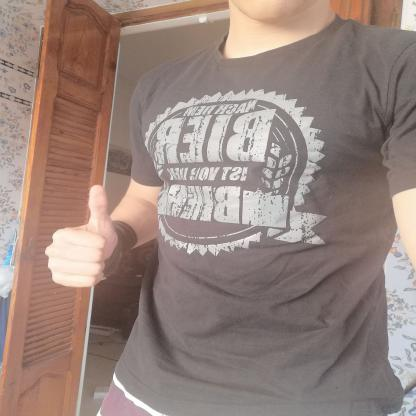ALIF: (35, 176, 130, 296)
